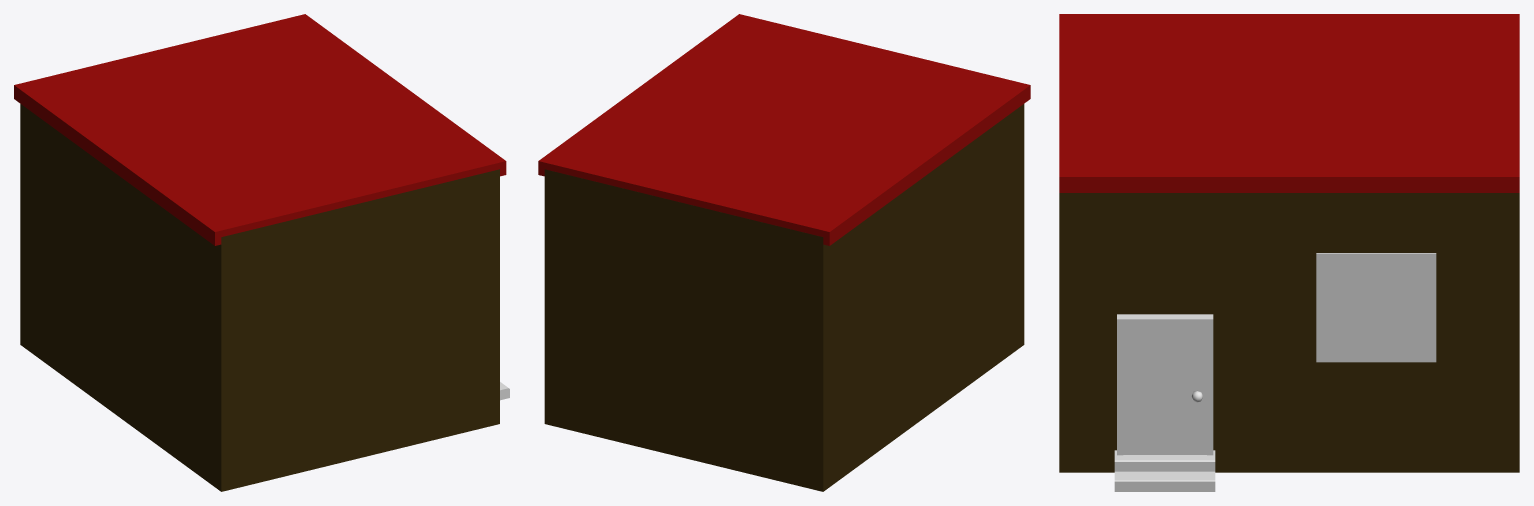
The model's file is Huis1.fbx.
The picture shows the model from 3 angles, left to right: view 1: azimuth 30°, elevation 25°; view 2: azimuth 150°, elevation 25°; view 3: azimuth 270°, elevation 25°; orthographic projection. The views are drawn at different scales.
Visible parts, largest first — view 1: Cube.002, Cube.003; view 2: Cube.002, Cube.003; view 3: Cube.002, Cube.003, Plane.007, Cube.025, Cube.024, Cube.010.
Boxes of the visible parts, x1,y1,x2,y2 form: Cube.002: (20,104,499,491); Cube.003: (14,14,506,245); Cube.002: (544,104,1024,491); Cube.003: (538,14,1030,245); Cube.002: (1059,193,1519,472); Cube.003: (1059,14,1519,192); Plane.007: (1316,253,1436,362); Cube.025: (1123,324,1206,454); Cube.024: (1114,450,1215,491); Cube.010: (1117,314,1213,455).
Size of the model in its own units: 183 by 144 by 200.
